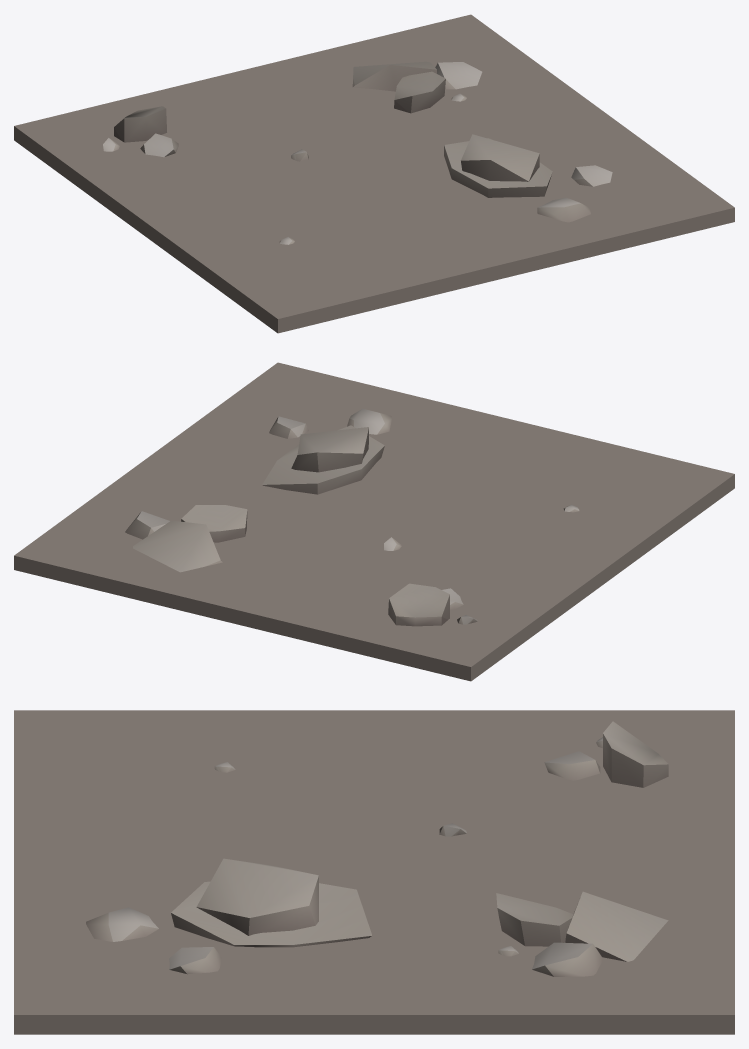
Rendered from floor_dirt_large_rocky.gltf.
3 renders of one model, top to bottom at view 1: azimuth 30°, elevation 25°; view 2: azimuth 150°, elevation 25°; view 3: azimuth 270°, elevation 25°, orthographic. The views are drawn at different scales.
Parts seen in each view (by area): view 1: floor_dirt_large_rocky; view 2: floor_dirt_large_rocky; view 3: floor_dirt_large_rocky.
Boxes of the visible parts, x1,y1,x2,y2 form: floor_dirt_large_rocky: (14,14,734,333); floor_dirt_large_rocky: (14,362,734,681); floor_dirt_large_rocky: (14,710,734,1034).
Size of the model in its own units: 4 by 0.3928 by 4.
Materials: 1 (1 with a texture image).
